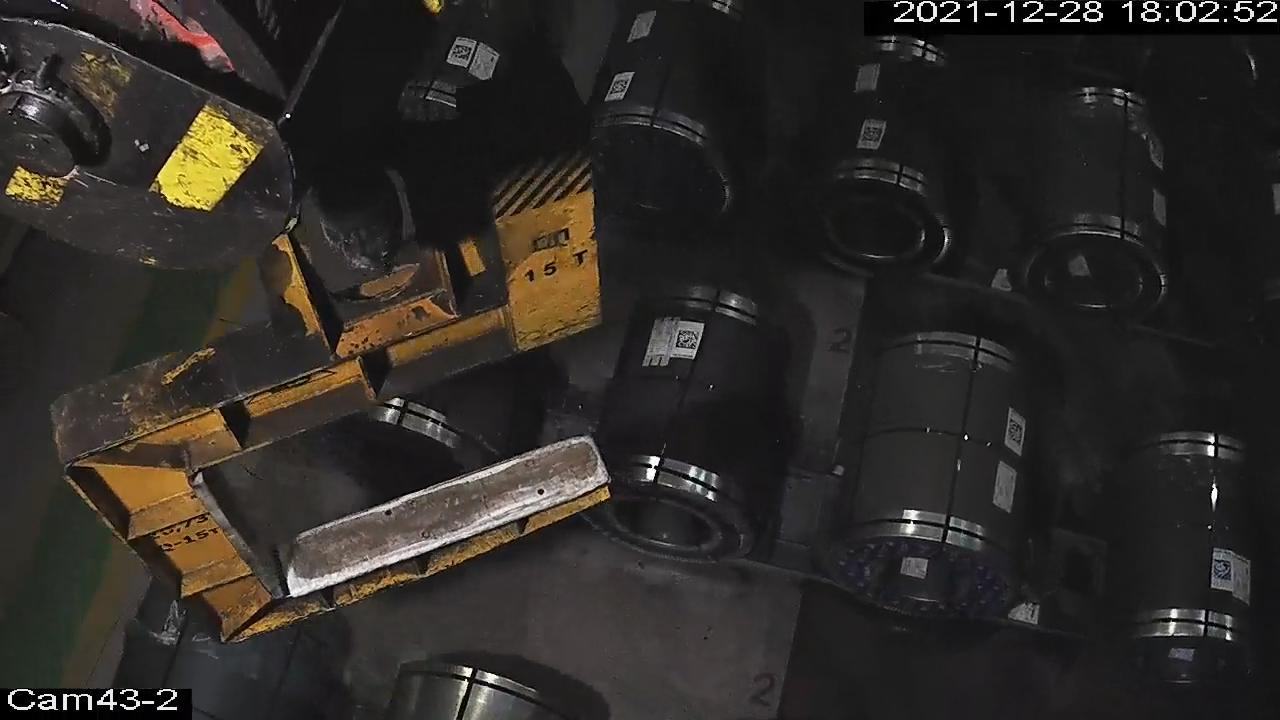data matrix: (675, 328, 703, 353), (1006, 418, 1027, 449), (1212, 558, 1235, 583), (449, 42, 475, 64), (860, 125, 887, 146), (608, 78, 631, 97)
